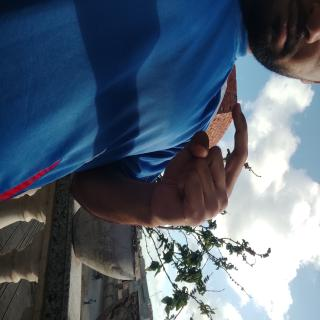RAA: (71, 86, 181, 239)
